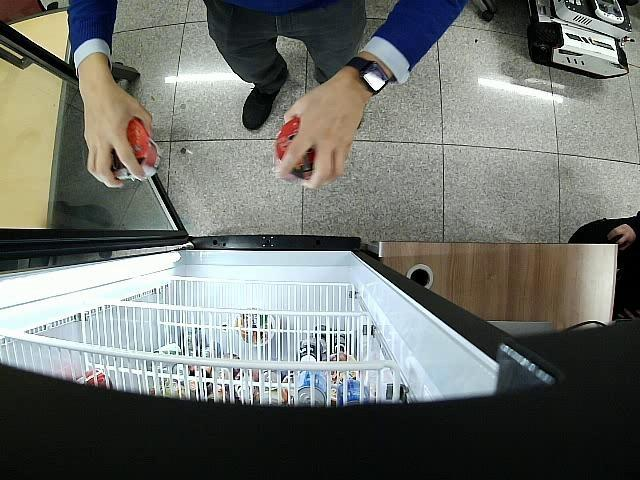02_shinRamen_S: (111, 119, 162, 179), (274, 117, 314, 180)
